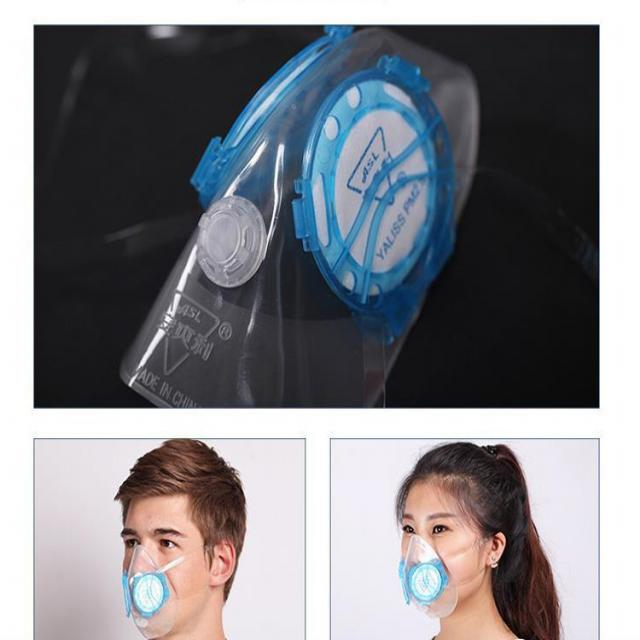mask: (120, 495, 199, 636), (396, 489, 472, 618)
